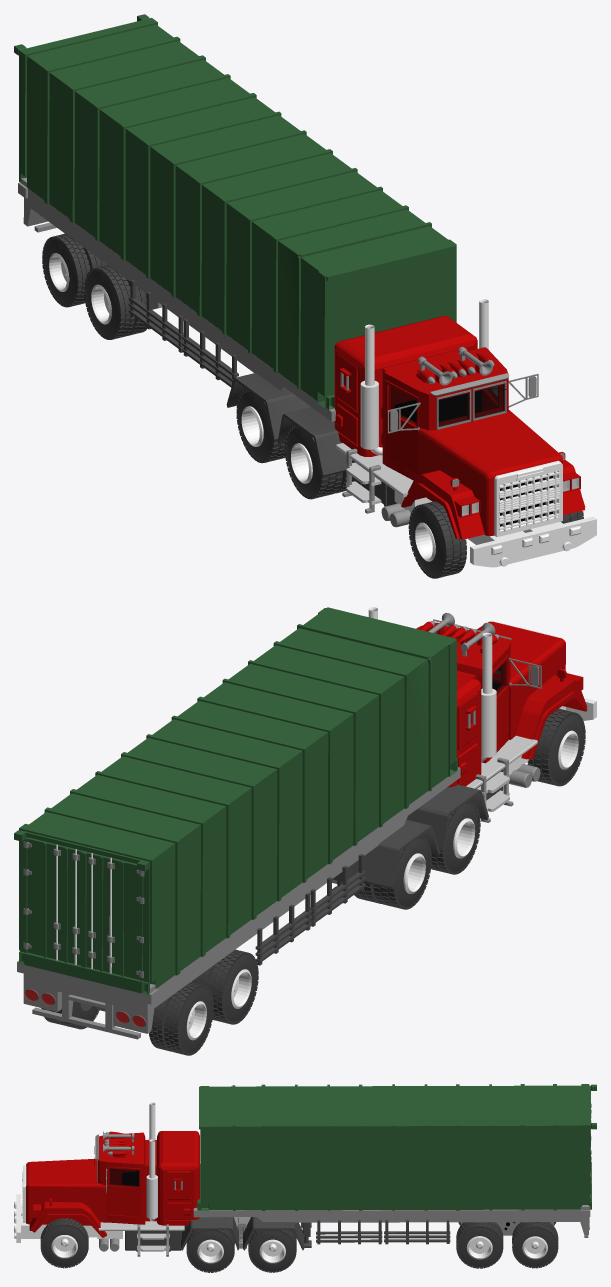
File: TRUCK_TWO.FBX
3 views of the same model, one above another, from view 1: azimuth 30°, elevation 25°; view 2: azimuth 150°, elevation 25°; view 3: azimuth 270°, elevation 25° (orthographic). The views are drawn at different scales.
Parts seen in each view (by area): view 1: Box73, T1_Box04, T1_Box35, T1_frontpart, T1_buffer, Box75, Box76, T1_Box29, Box706, Box707, T1_Box694, T1_Box05 (+17 smaller); view 2: Box73, Box77, Box1177, Box76, Box75, T1_Box04, T1_Box29, Box707, Box706, T1_frontpart, Box1157, Box1158 (+23 smaller); view 3: Box73, T1_Box04, Box75, T1_Box35, T1_frontpart, Box76, T1_Box687, T1_Box28, T1_Tube09, Tube15, Tube18, Box1156 (+23 smaller).
Boxes of the visible parts, x1,y1,x2,y2 form: Box73: (14, 14, 456, 409); T1_Box04: (418, 407, 562, 536); T1_Box35: (334, 315, 477, 456); T1_frontpart: (382, 347, 508, 480); T1_buffer: (394, 491, 596, 567); Box75: (18, 177, 335, 421); Box76: (23, 197, 286, 390); T1_Box29: (401, 470, 484, 539); Box706: (277, 407, 352, 476); Box707: (226, 373, 311, 441); T1_Box694: (385, 380, 418, 473); T1_Box05: (494, 460, 562, 537); Box73: (14, 607, 457, 994); Box77: (81, 852, 143, 981); Box1177: (24, 837, 86, 966); Box76: (23, 816, 407, 1033); Box75: (17, 767, 460, 1004); T1_Box04: (477, 621, 565, 739); T1_Box29: (516, 675, 587, 759); Box707: (350, 819, 439, 889); Box706: (406, 784, 488, 851); T1_frontpart: (416, 622, 510, 763); Box1157: (255, 893, 312, 965); Box1158: (310, 854, 365, 926); Box73: (197, 1084, 596, 1210); T1_Box04: (26, 1159, 106, 1225); Box75: (193, 1205, 590, 1217); T1_Box35: (157, 1131, 199, 1225); T1_frontpart: (97, 1132, 156, 1224); Box76: (257, 1216, 588, 1234); T1_Box687: (108, 1166, 141, 1216); T1_Box28: (29, 1201, 106, 1237); T1_Tube09: (41, 1219, 87, 1266); Tube15: (249, 1230, 295, 1271); Tube18: (187, 1230, 233, 1271); Box1156: (384, 1219, 450, 1244).
Bounding box in the file's own units: 3.25 × 15.53 × 4.23.
